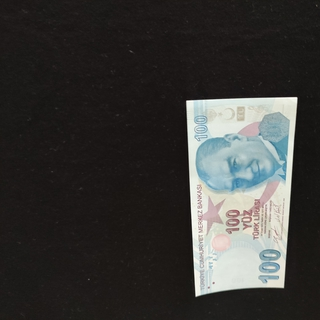100TLFront: (186, 97, 298, 297)
